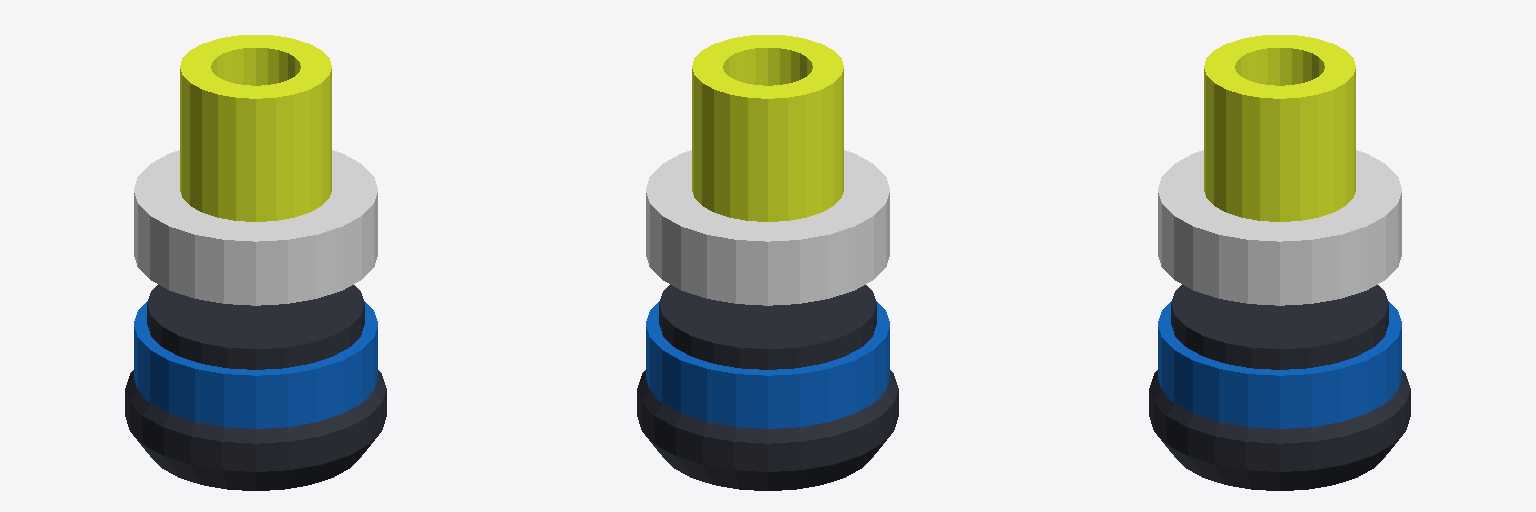
File: tower_uranium_238.obj
3 renders of one model, left to right at view 1: azimuth 30°, elevation 25°; view 2: azimuth 150°, elevation 25°; view 3: azimuth 270°, elevation 25°, orthographic.
Parts seen in each view (by area): view 1: mergedBlocks; view 2: mergedBlocks; view 3: mergedBlocks.
Part boxes in pixels (x1,y1,x2,y2): mergedBlocks: (125, 35, 386, 490); mergedBlocks: (637, 35, 898, 490); mergedBlocks: (1149, 35, 1410, 490).
Bounding box in the file's own units: 0.96 × 1.54 × 0.96.